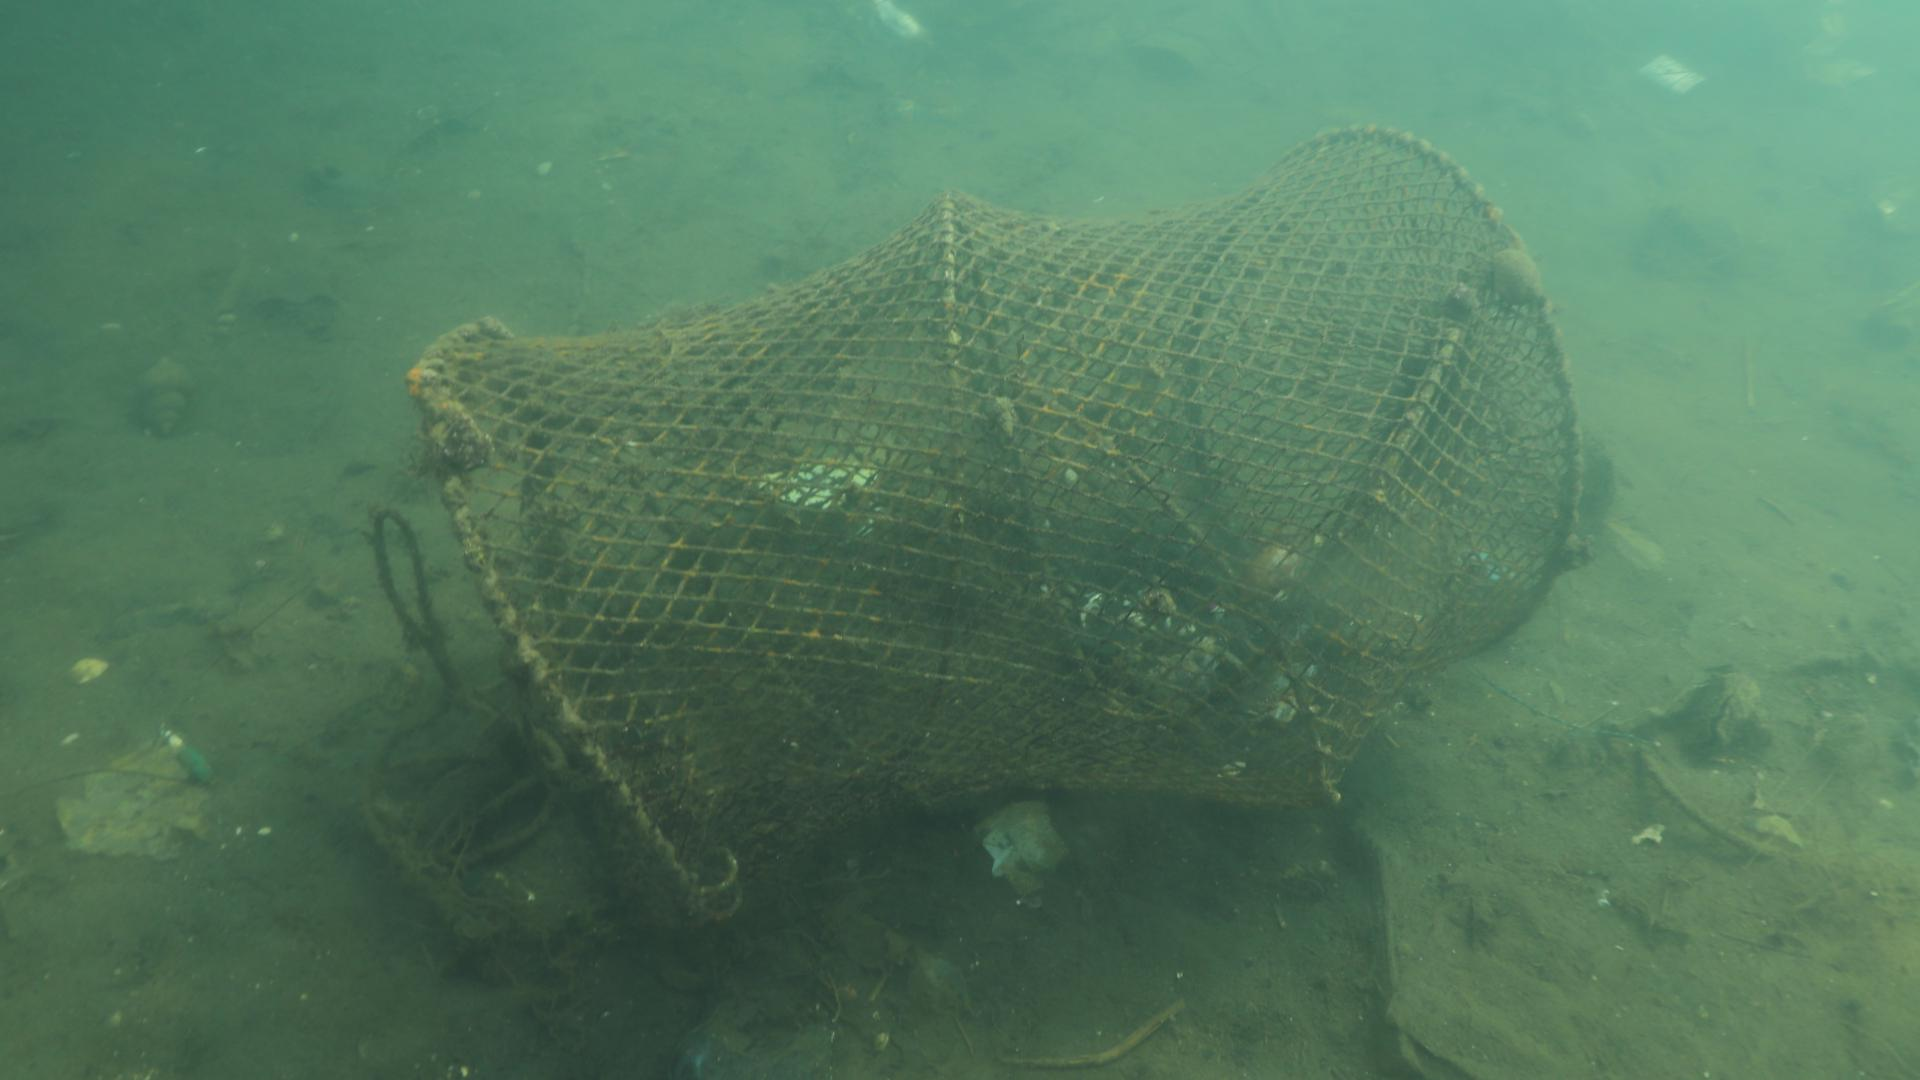bundle of ropes: (360, 506, 567, 914)
spring fish trap: (404, 120, 1592, 928)
